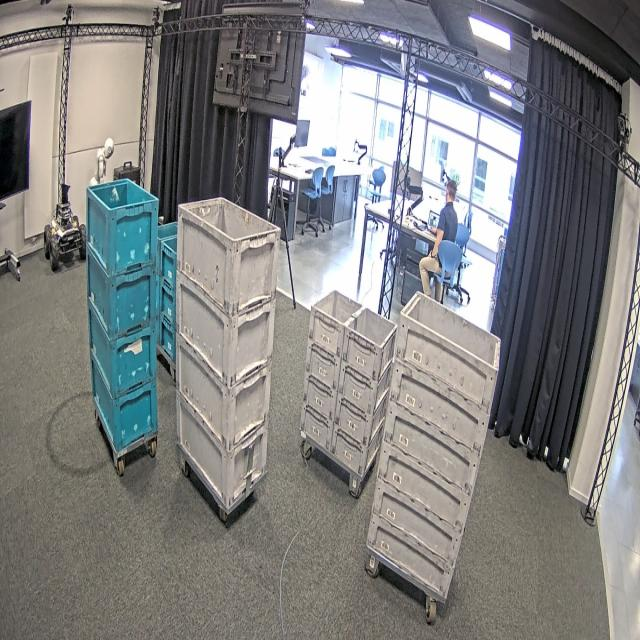Box3G: (398, 289, 502, 413), (388, 365, 492, 454), (380, 410, 486, 495), (377, 446, 476, 534), (373, 480, 468, 568), (367, 516, 460, 598)
Box4G: (178, 198, 281, 316), (174, 274, 274, 386), (174, 336, 270, 449), (176, 394, 267, 511)
Box8G: (344, 309, 396, 382), (340, 356, 393, 415), (333, 418, 385, 474), (336, 391, 388, 446), (310, 290, 350, 358), (306, 340, 343, 391), (302, 403, 336, 453), (305, 373, 339, 422)
BoxB4: (85, 177, 158, 276), (90, 352, 162, 452), (85, 247, 160, 338), (86, 303, 157, 399)
BoxB8: (161, 238, 180, 294), (161, 317, 179, 364), (162, 284, 178, 324)
